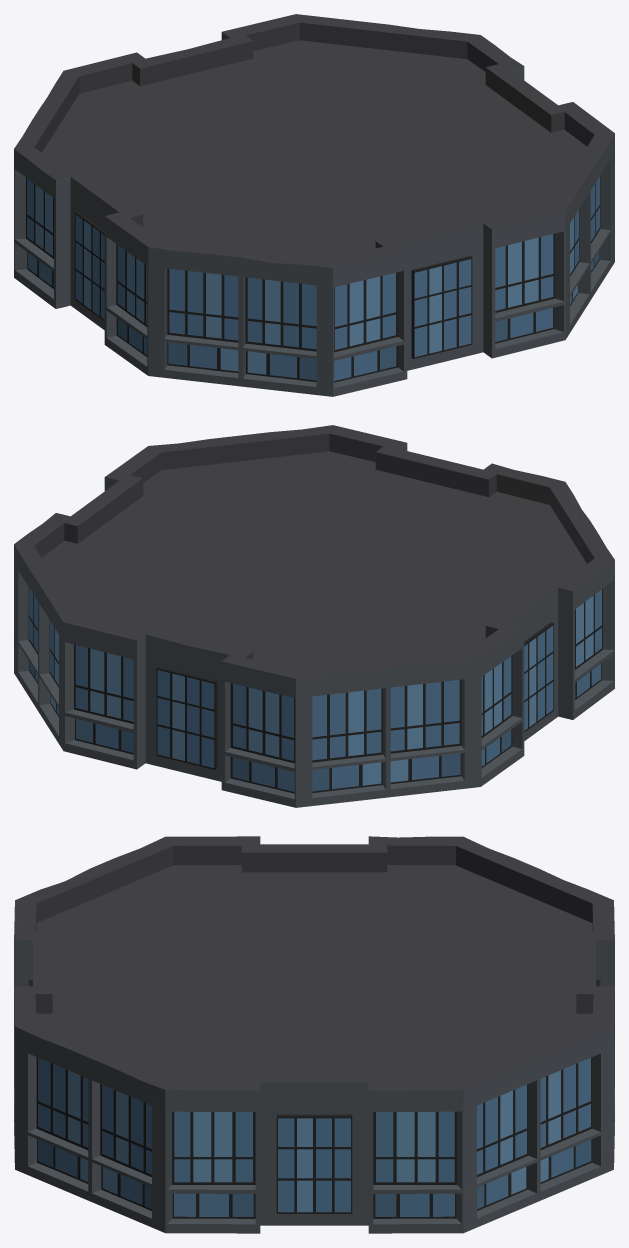
File: oct_office_roof.glb
3 renders of one model, top to bottom at view 1: azimuth 30°, elevation 25°; view 2: azimuth 150°, elevation 25°; view 3: azimuth 270°, elevation 25°, orthographic. The views are drawn at different scales.
Visible parts, largest first — view 1: SM_Bld_OfficeOctagon_Roof_01; view 2: SM_Bld_OfficeOctagon_Roof_01; view 3: SM_Bld_OfficeOctagon_Roof_01.
Part boxes in pixels (x1,y1,x2,y2): SM_Bld_OfficeOctagon_Roof_01: (14,14,614,396); SM_Bld_OfficeOctagon_Roof_01: (14,425,614,807); SM_Bld_OfficeOctagon_Roof_01: (14,836,614,1233).
Size of the model in its own units: 20.46 by 5.38 by 20.46.
Materials: 1 (1 with a texture image).
